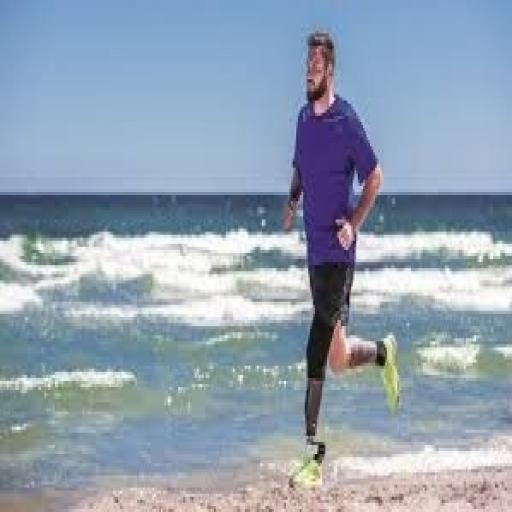running: (279, 24, 404, 494)
